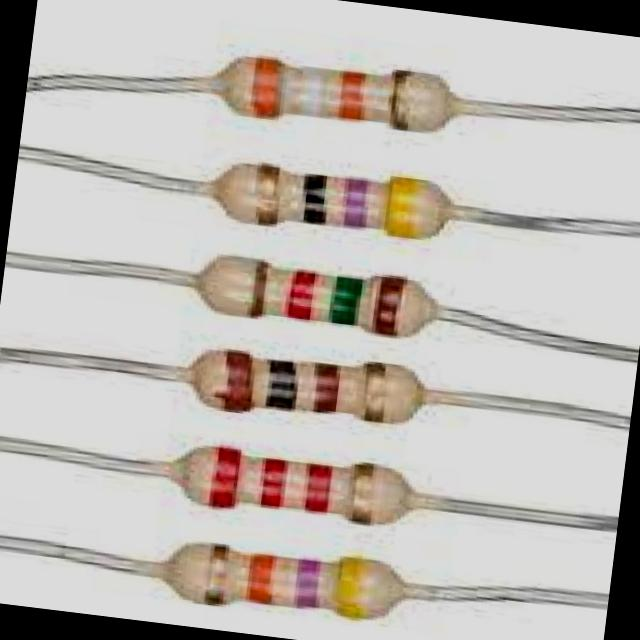Resistor: (196, 257, 436, 337), (171, 447, 412, 525), (166, 544, 403, 620), (211, 164, 450, 239), (218, 57, 457, 132), (188, 351, 425, 424)
black: (262, 358, 295, 412), (293, 170, 326, 223)
brown: (370, 269, 405, 335), (221, 349, 252, 414), (309, 365, 339, 416), (243, 255, 268, 315)
gold: (346, 463, 376, 529), (200, 541, 228, 608), (253, 163, 283, 224), (358, 357, 386, 422), (389, 67, 408, 129)
green: (329, 276, 362, 324)
orange: (251, 58, 280, 117), (338, 71, 365, 120), (246, 554, 273, 602)
purple: (342, 178, 368, 227), (294, 559, 320, 607)
red: (209, 446, 241, 507), (285, 270, 316, 320), (304, 464, 332, 511), (260, 458, 285, 507)
white: (298, 61, 321, 113)
yellow: (383, 171, 425, 237), (333, 551, 365, 619)
